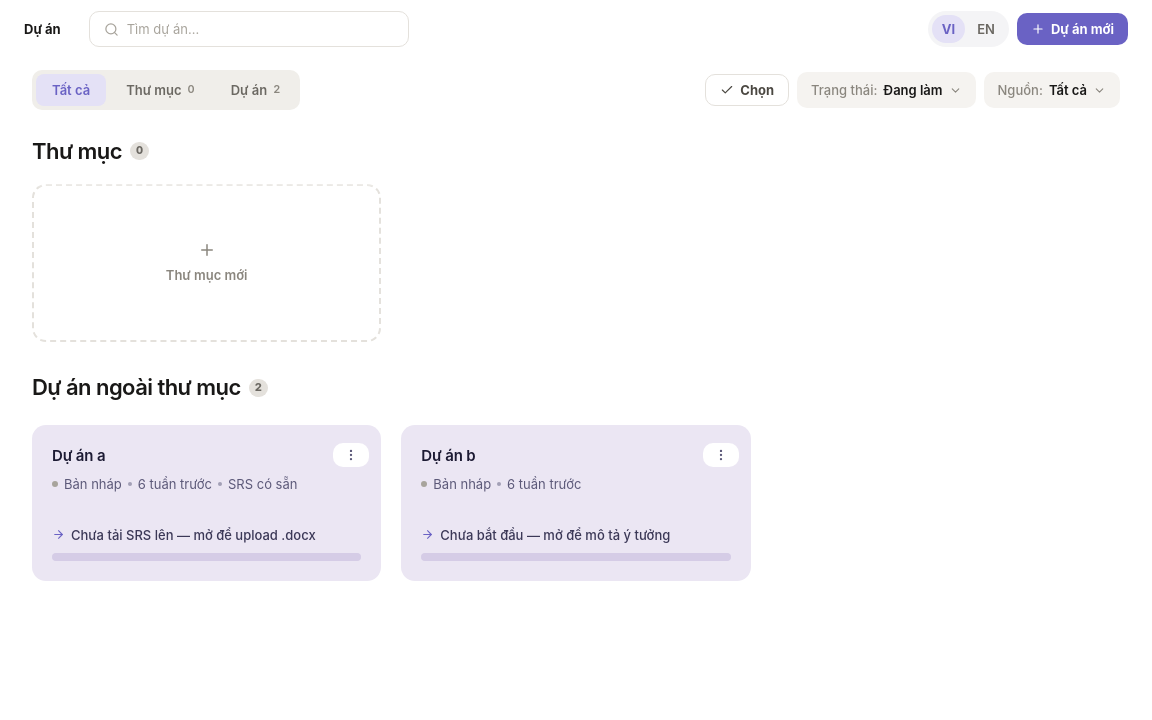
Scenario: Project Dashboard › có dự án ⇒ lưới đúng số card; lọc theo nguồn và trạng thái
Expected: the link "Dự án a" is shown, [32, 425, 381, 581]
Expected: the link "Dự án b" is shown, [401, 425, 751, 581]
Click the dropdown labelled "Nguồn": x=1052, y=90 [984, 72, 1120, 108]
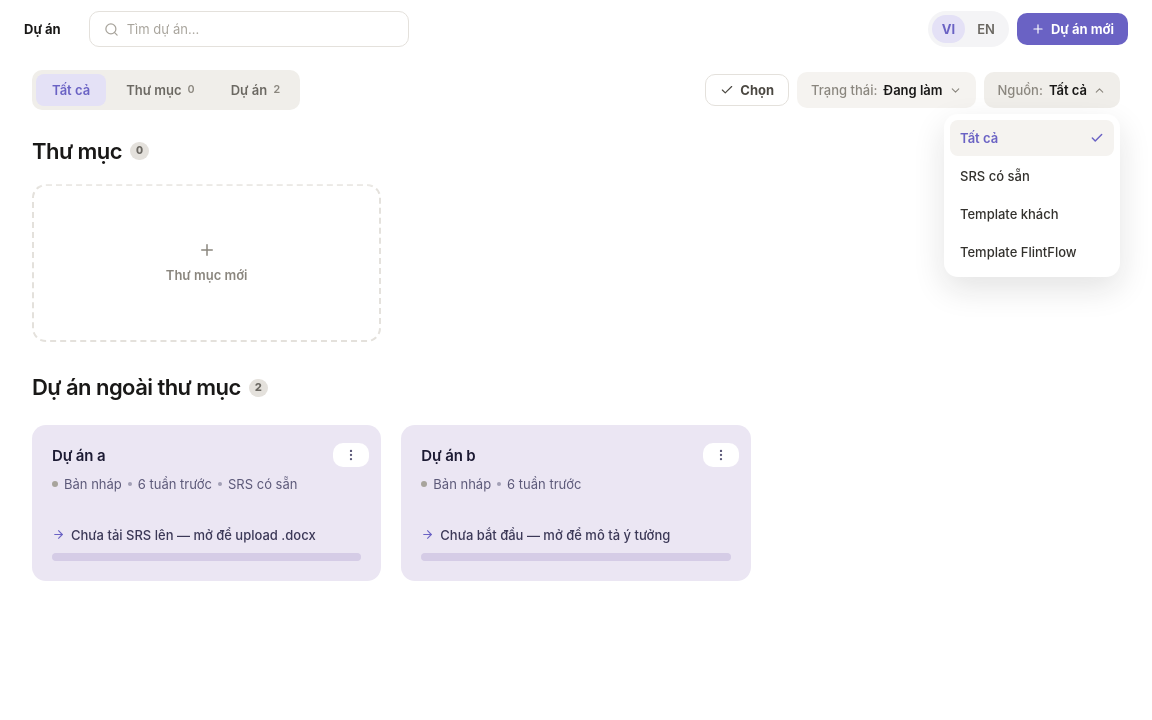
Press the mouse on the option "SRS có sẵn": x=995, y=176 [960, 168, 1030, 184]
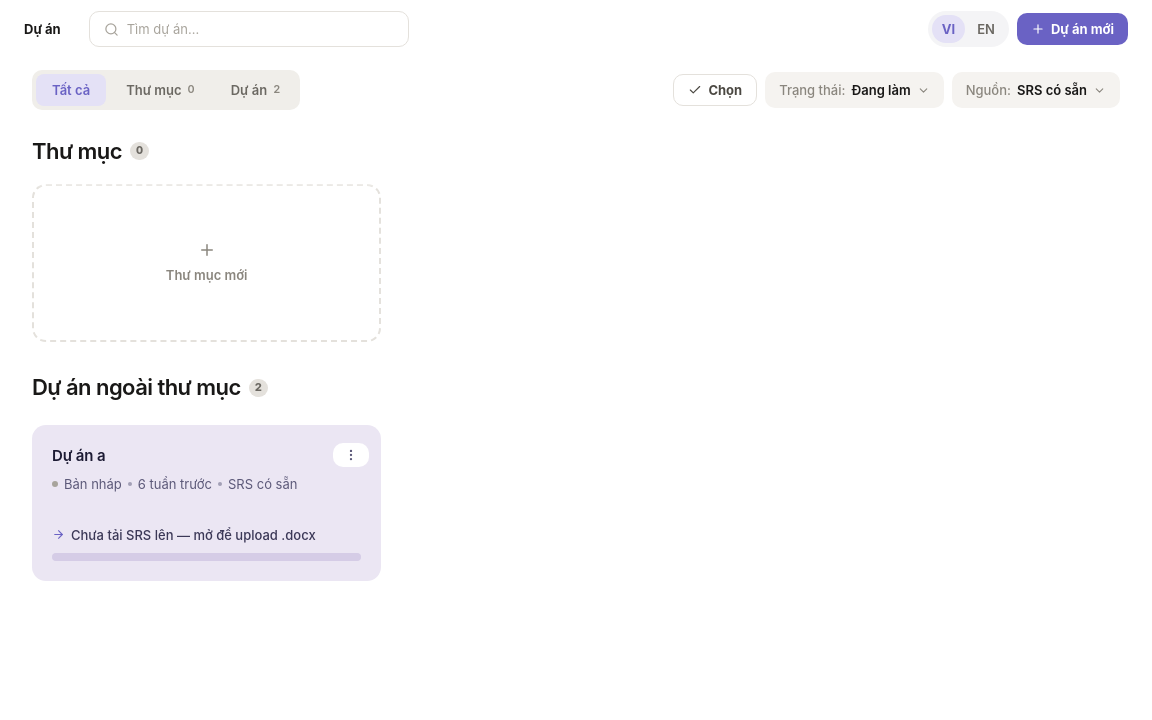
Result: the link "Dự án b" is gone
Click the dropdown labelled "Nguồn": x=1036, y=90 [952, 72, 1120, 108]
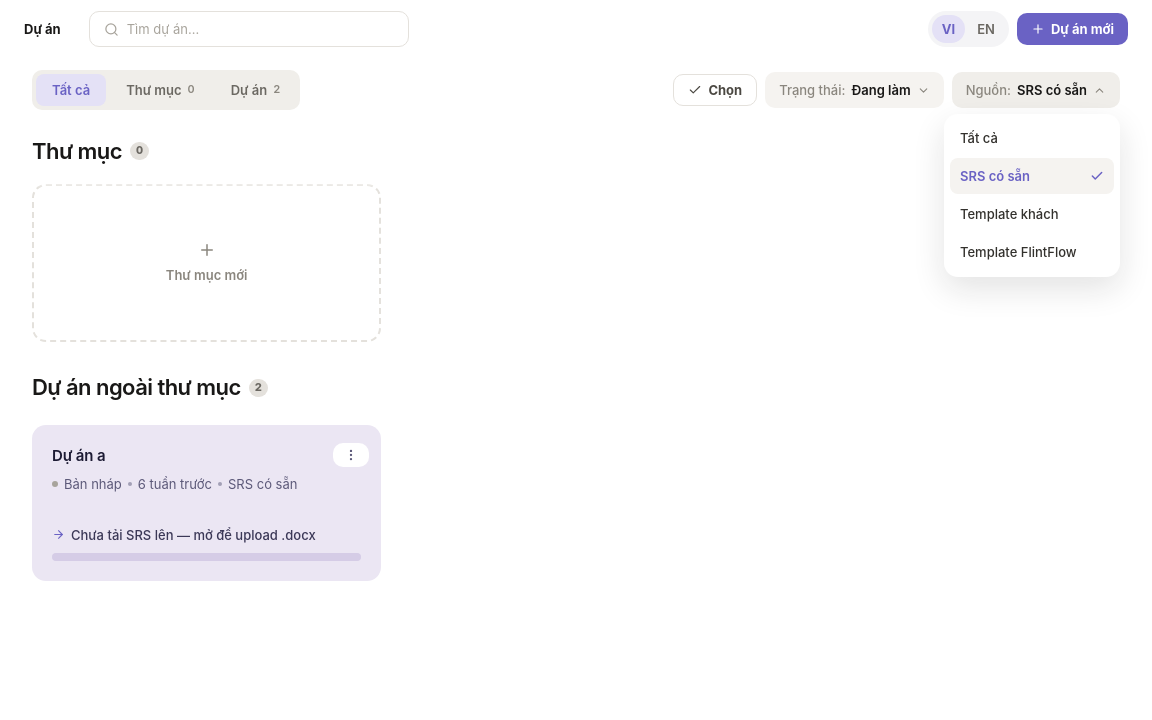
Press the mouse on the option "Tất cả": x=979, y=138 [960, 130, 998, 146]
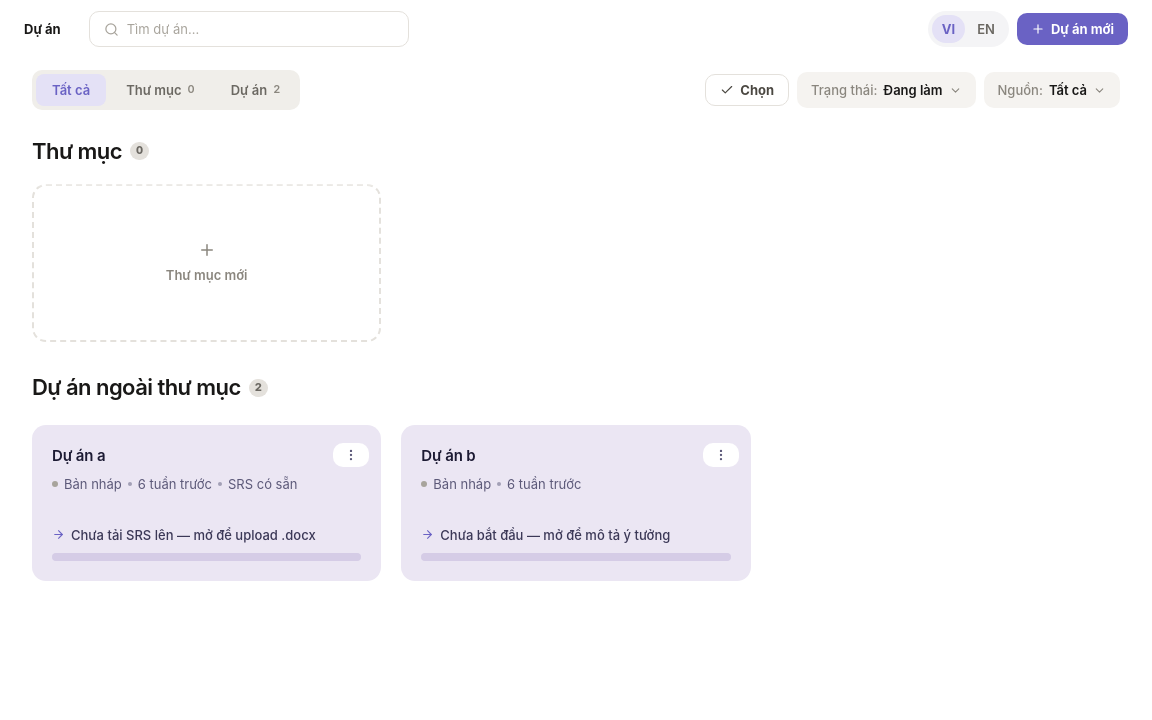
Click the dropdown labelled "Trạng thái": x=886, y=90 [797, 72, 976, 108]
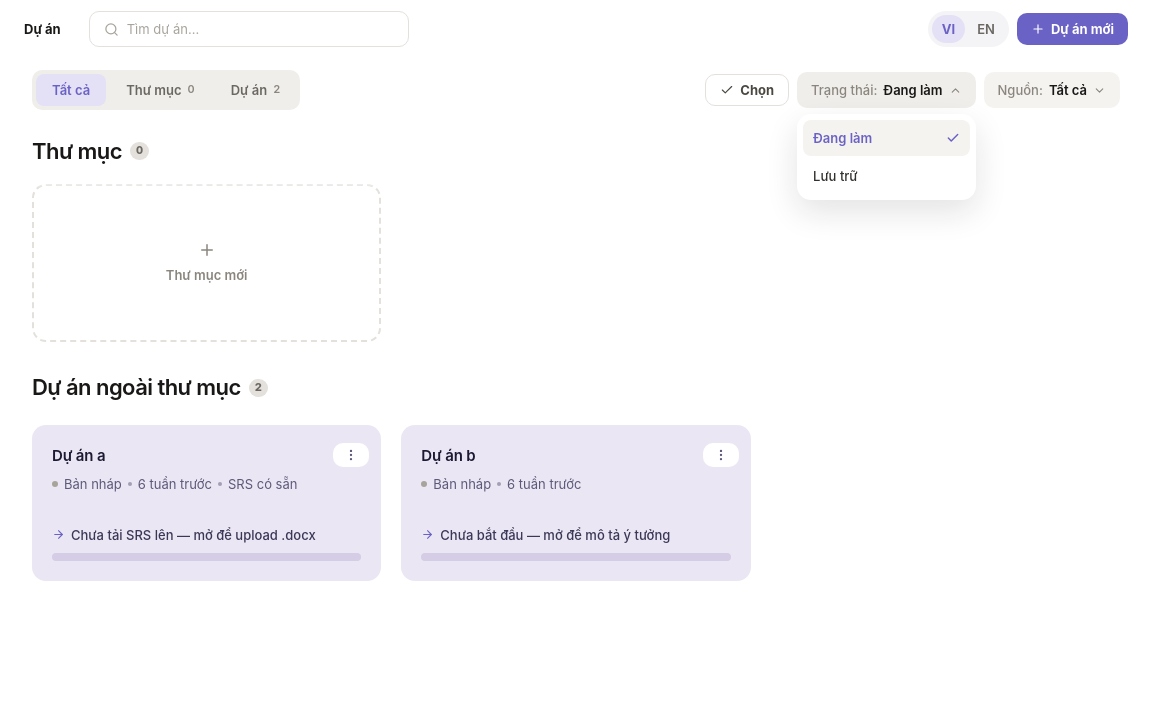
Press the mouse on the option "Lưu trữ": x=835, y=176 [813, 168, 858, 184]
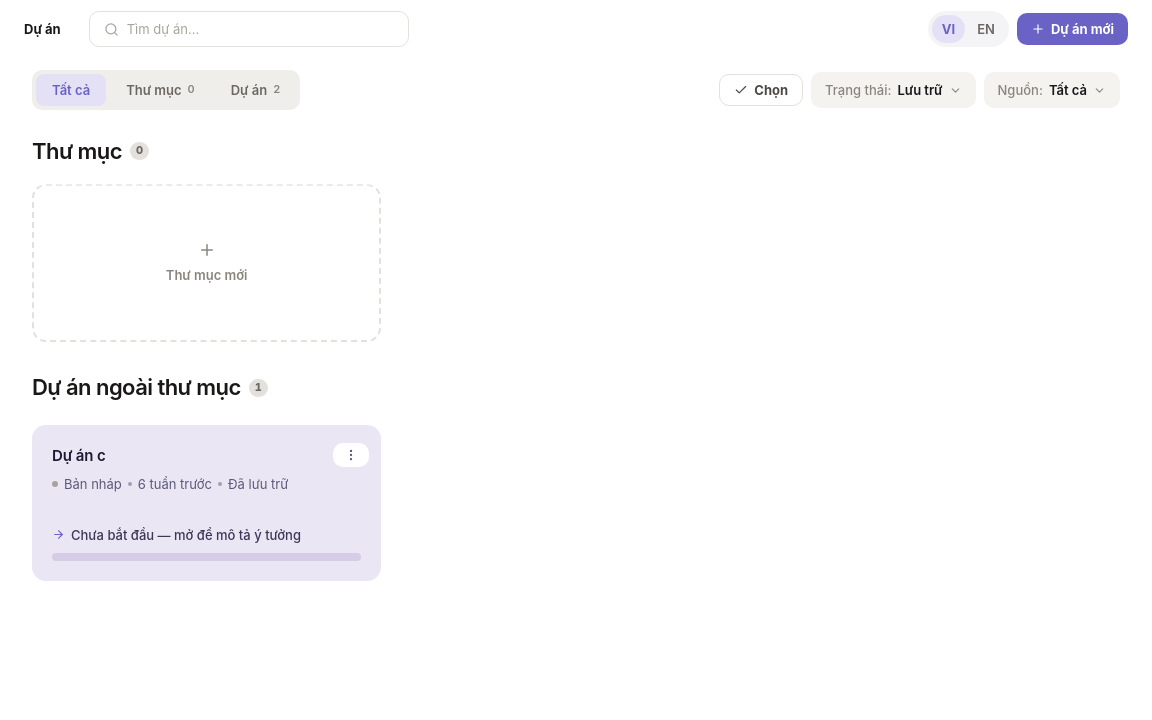
Result: the link "Dự án c" is shown at [32, 425, 381, 581]
Result: the link "Dự án a" is gone
